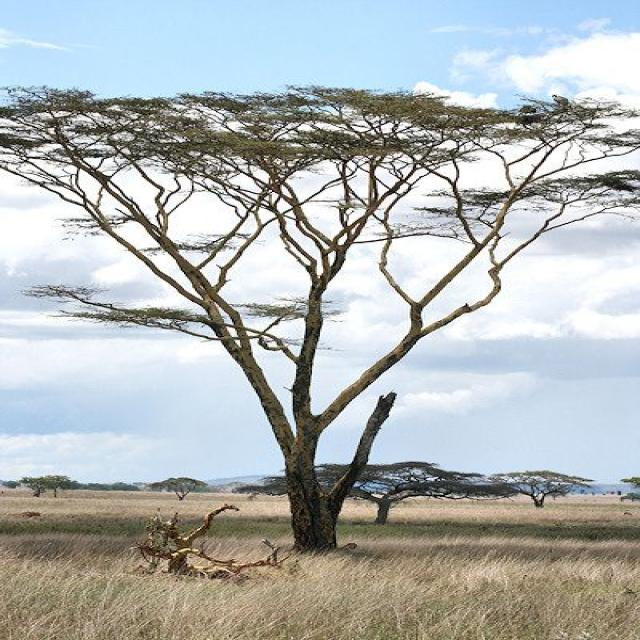Acacia: (6, 84, 619, 535)
